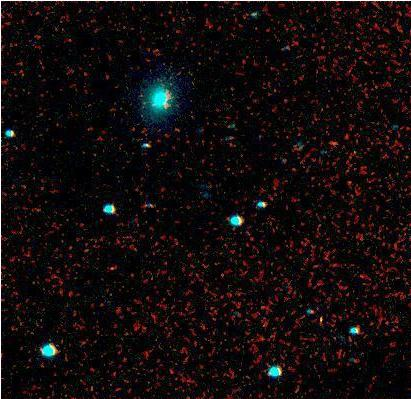star: (329, 122, 359, 152)
